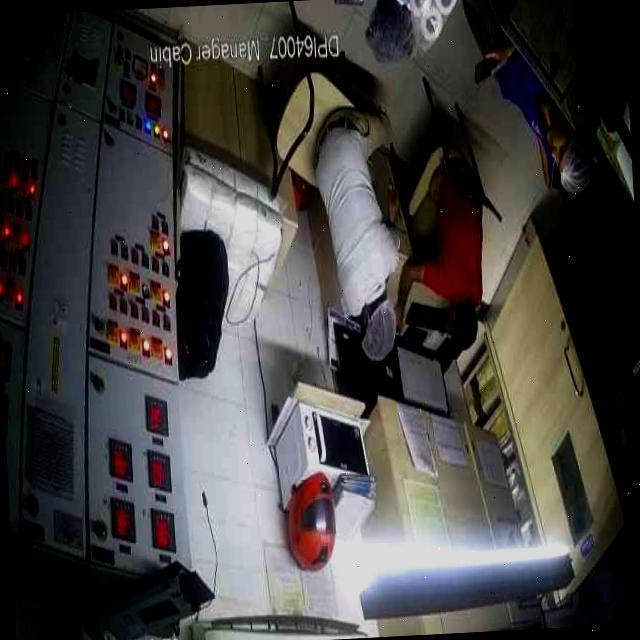helmet: (290, 472, 338, 574)
no_helmet: (549, 118, 594, 194), (360, 295, 396, 362), (448, 302, 479, 352)
